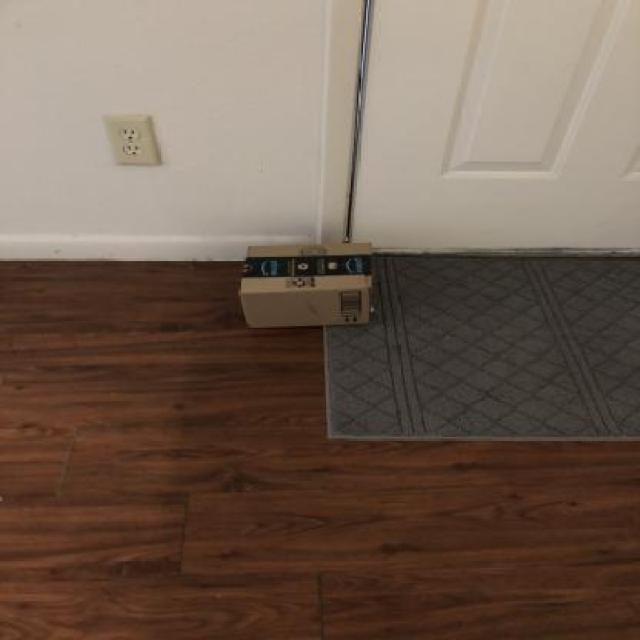cardboxes: (229, 236, 388, 335)
